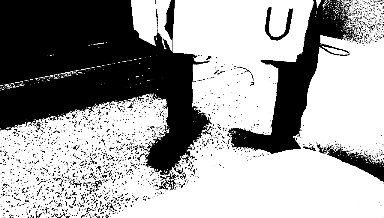U: (259, 3, 295, 43)
